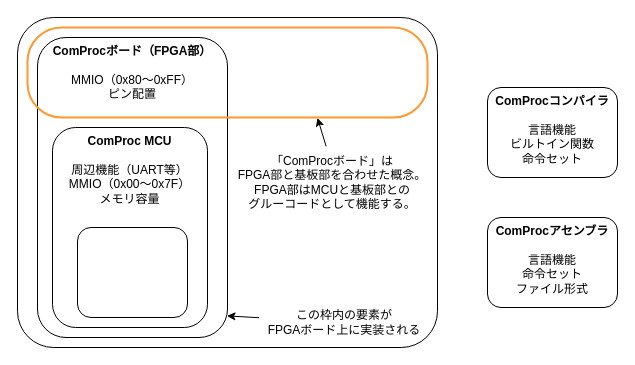
The diagram is 635 pixels wide and 365 high, and some of its shapes have lost their labels. The centre of each missing label's shape, as x and y in pixels:
ComProc CPU 命令セット 特殊レジスタ スタック段数: the point at 132,272
ComProcボード（基板部） 部品の仕様（LCDの行数等） GPIOへ接続される部品の種類: the point at 227,72
